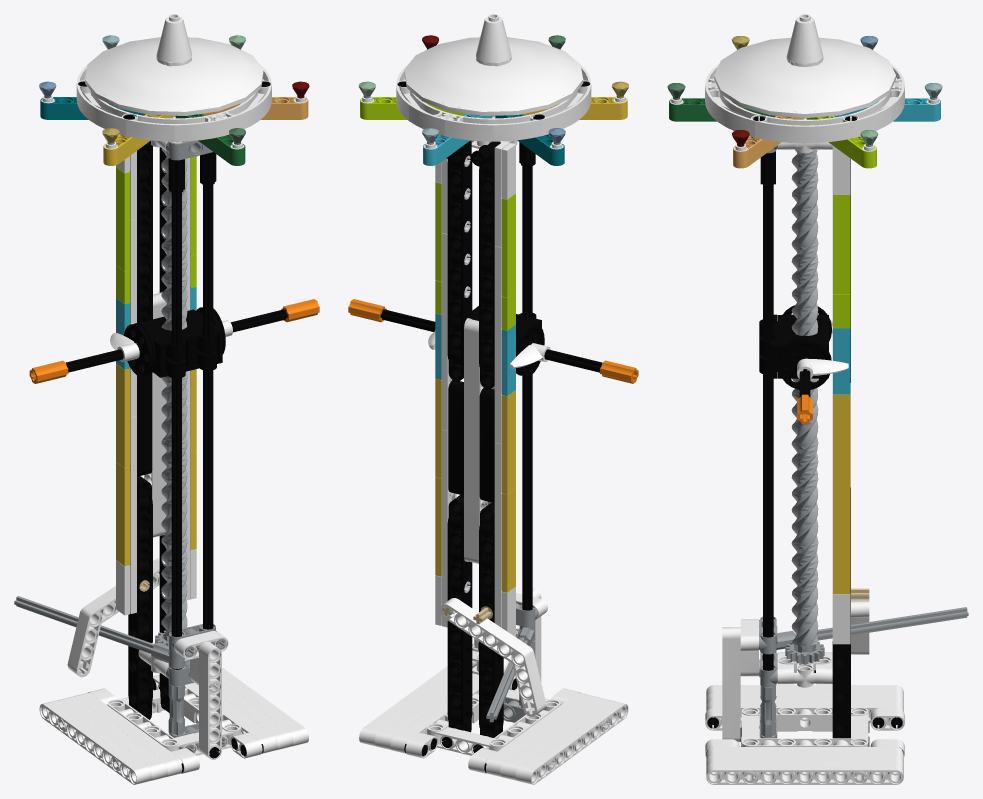
3 renders of one model, left to right at view 1: azimuth 30°, elevation 25°; view 2: azimuth 150°, elevation 25°; view 3: azimuth 270°, elevation 25°, orthographic.
Visible parts, largest first — view 1: Inner-Node-torre_dot_io-181.001, Inner-Node-torre_dot_io-143.001, Inner-Node-torre_dot_io-78.001, Inner-Node-torre_dot_io-77.001, Inner-Node-torre_dot_io-21.001, Inner-Node-torre_dot_io-33.001, Inner-Node-torre_dot_io-44.001, Inner-Node-torre_dot_io-0.001, Inner-Node-torre_dot_io-83.001, Inner-Node-torre_dot_io-86.001, Inner-Node-torre_dot_io-11.001, Inner-Node-torre_dot_io-36.001 (+44 smaller); view 2: Inner-Node-torre_dot_io-181.001, Inner-Node-torre_dot_io-45.001, Inner-Node-torre_dot_io-143.001, Inner-Node-torre_dot_io-20.001, Inner-Node-torre_dot_io-78.001, Inner-Node-torre_dot_io-11.001, Inner-Node-torre_dot_io-44.001, Inner-Node-torre_dot_io-86.001, Inner-Node-torre_dot_io-21.001, Inner-Node-torre_dot_io-33.001, Inner-Node-torre_dot_io-0.001, Inner-Node-torre_dot_io-19.001 (+34 smaller); view 3: Inner-Node-torre_dot_io-181.001, Inner-Node-torre_dot_io-143.001, Inner-Node-torre_dot_io-77.001, Inner-Node-torre_dot_io-22.001, Inner-Node-torre_dot_io-0.001, Inner-Node-torre_dot_io-114.001, Inner-Node-torre_dot_io-108.001, Inner-Node-torre_dot_io-120.001, Inner-Node-torre_dot_io-83.001, Inner-Node-torre_dot_io-118.001, Inner-Node-torre_dot_io-25.001, Inner-Node-torre_dot_io-20.001 (+27 smaller).
Part boxes in pixels (x1,y1,x2,y2): Inner-Node-torre_dot_io-181.001: (85, 37, 263, 115); Inner-Node-torre_dot_io-143.001: (76, 65, 271, 141); Inner-Node-torre_dot_io-78.001: (171, 192, 181, 669); Inner-Node-torre_dot_io-77.001: (203, 184, 213, 629); Inner-Node-torre_dot_io-21.001: (128, 476, 152, 719); Inner-Node-torre_dot_io-33.001: (39, 700, 152, 784); Inner-Node-torre_dot_io-44.001: (137, 140, 152, 322); Inner-Node-torre_dot_io-0.001: (107, 685, 241, 755); Inner-Node-torre_dot_io-83.001: (199, 641, 221, 759); Inner-Node-torre_dot_io-86.001: (67, 558, 159, 677); Inner-Node-torre_dot_io-11.001: (144, 292, 166, 537); Inner-Node-torre_dot_io-36.001: (58, 696, 167, 780); Inner-Node-torre_dot_io-181.001: (404, 37, 583, 115); Inner-Node-torre_dot_io-45.001: (447, 140, 472, 381); Inner-Node-torre_dot_io-143.001: (396, 65, 591, 141); Inner-Node-torre_dot_io-20.001: (447, 495, 472, 732); Inner-Node-torre_dot_io-78.001: (522, 166, 532, 642); Inner-Node-torre_dot_io-11.001: (464, 319, 487, 563); Inner-Node-torre_dot_io-44.001: (479, 144, 499, 389); Inner-Node-torre_dot_io-86.001: (439, 598, 546, 716); Inner-Node-torre_dot_io-21.001: (479, 502, 503, 737); Inner-Node-torre_dot_io-33.001: (515, 700, 628, 784); Inner-Node-torre_dot_io-0.001: (427, 688, 560, 755); Inner-Node-torre_dot_io-19.001: (448, 380, 463, 495); Inner-Node-torre_dot_io-181.001: (714, 37, 895, 118); Inner-Node-torre_dot_io-143.001: (705, 63, 904, 143); Inner-Node-torre_dot_io-77.001: (763, 185, 773, 670); Inner-Node-torre_dot_io-22.001: (706, 762, 903, 784); Inner-Node-torre_dot_io-0.001: (741, 707, 868, 746); Inner-Node-torre_dot_io-114.001: (791, 444, 818, 548); Inner-Node-torre_dot_io-108.001: (791, 544, 818, 648); Inner-Node-torre_dot_io-120.001: (791, 149, 818, 249); Inner-Node-torre_dot_io-83.001: (722, 627, 740, 742); Inner-Node-torre_dot_io-118.001: (791, 245, 818, 335); Inner-Node-torre_dot_io-25.001: (706, 754, 903, 775); Inner-Node-torre_dot_io-20.001: (832, 503, 850, 738).
Bounding box in the file's own units: 14.43 × 34.93 × 13.12.
